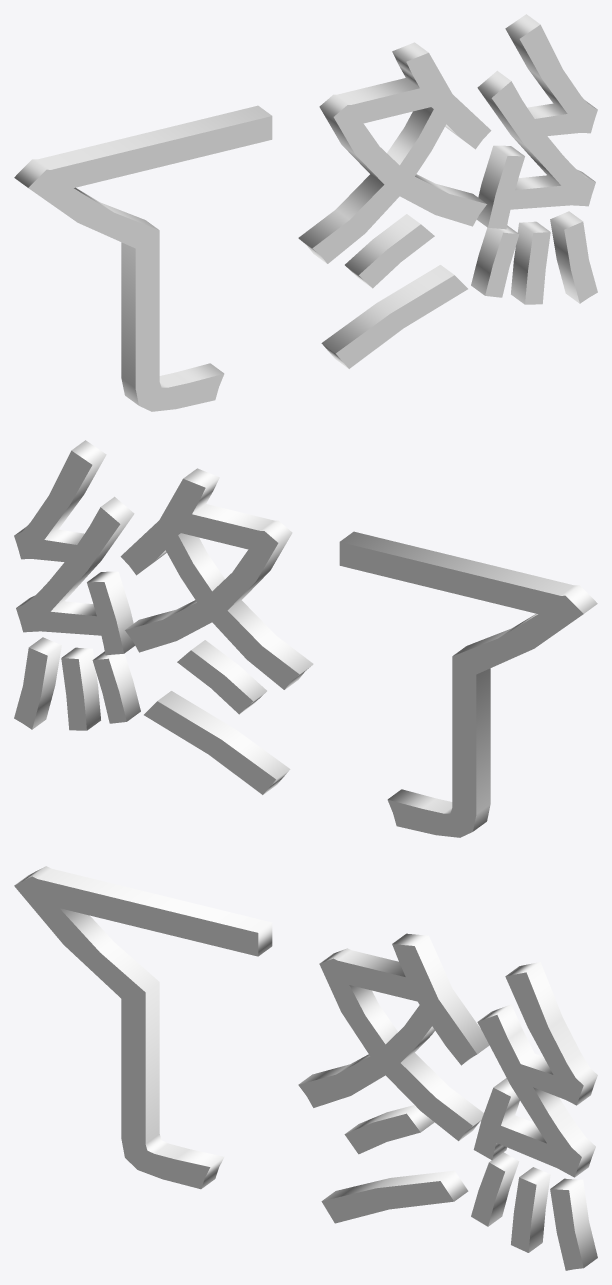
The model's file is End.obj.
3 renders of one model, top to bottom at view 1: azimuth 30°, elevation 25°; view 2: azimuth 150°, elevation 25°; view 3: azimuth 330°, elevation 25°, orthographic.
Parts seen in each view (by area): view 1: テキスト; view 2: テキスト; view 3: テキスト.
Part boxes in pixels (x1,y1,x2,y2): テキスト: (14, 14, 597, 411); テキスト: (14, 440, 597, 837); テキスト: (14, 866, 597, 1270).
Size of the model in its own units: 1.86 by 0.928 by 0.08.
Materials: 1 (1 with a texture image).
